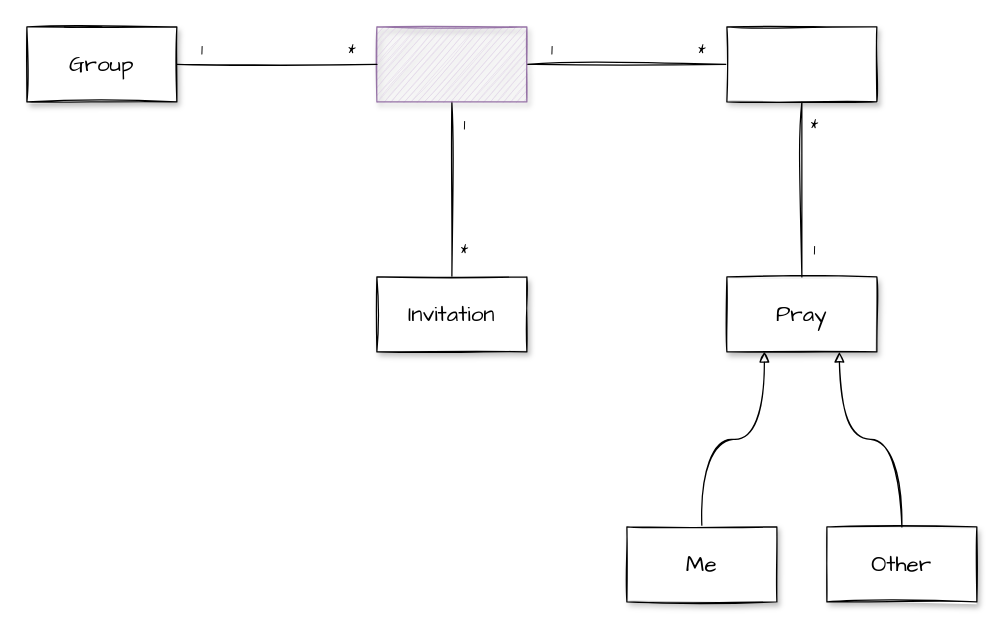
This 1006x633 diagram has some shape labels left out. The centre of each missing label's shape, as x and y in pixels:
Member: the point at 452,66
MemberPray: the point at 802,66
